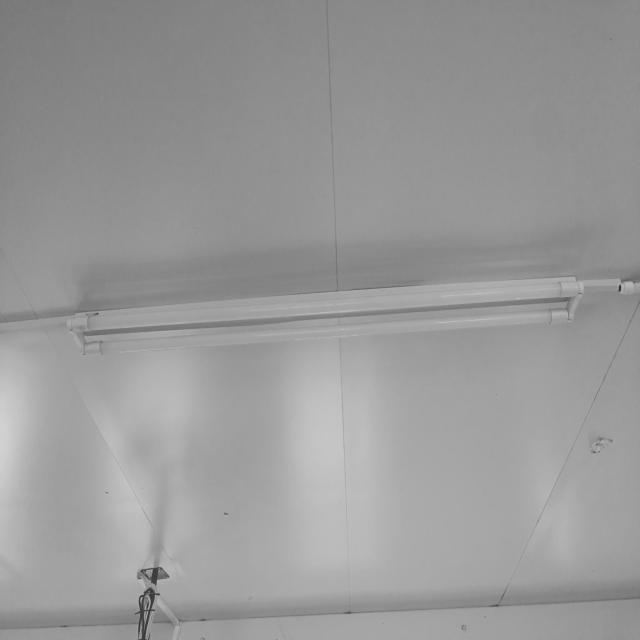light: (67, 276, 583, 356)
